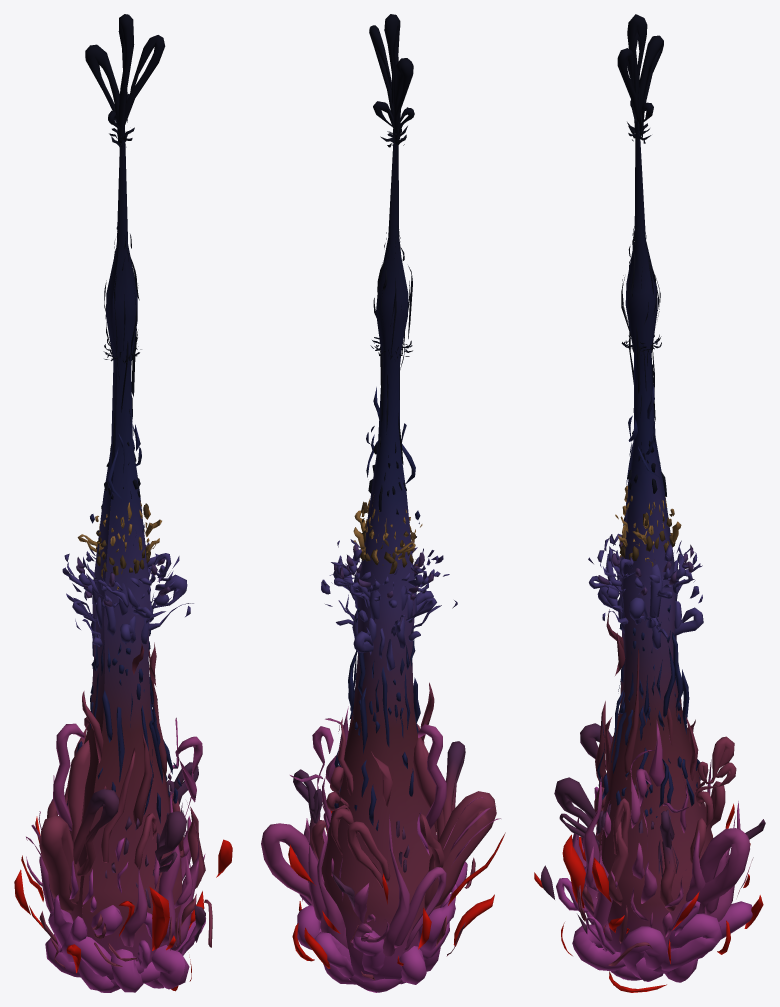
File: tentacle1.fbx
The picture shows the model from 3 angles, left to right: view 1: azimuth 30°, elevation 25°; view 2: azimuth 150°, elevation 25°; view 3: azimuth 270°, elevation 25°; orthographic projection. The views are drawn at different scales.
Visible parts, largest first — view 1: Paint.001; view 2: Paint.001; view 3: Paint.001.
Part boxes in pixels (left/top/right/bottom): Paint.001: left=14, top=14, right=232, bottom=992; Paint.001: left=261, top=14, right=505, bottom=992; Paint.001: left=534, top=14, right=765, bottom=992.
Size of the model in its own units: 10.55 by 50.26 by 11.01.
